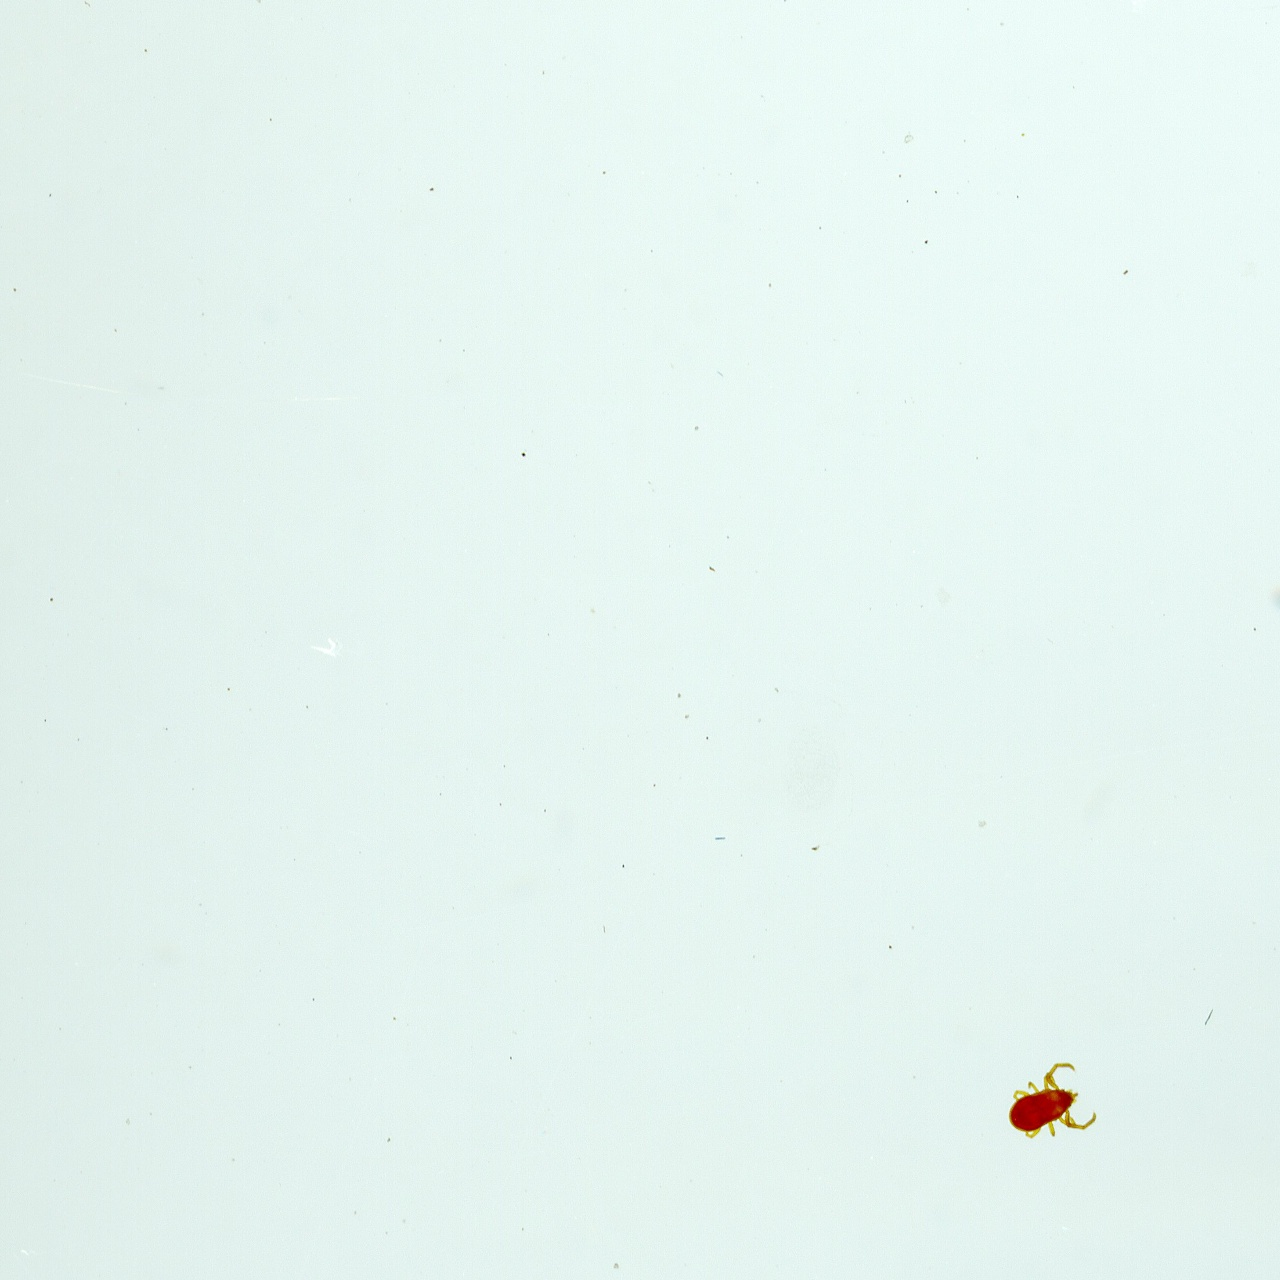arthropod: (988, 1048, 1112, 1167)
